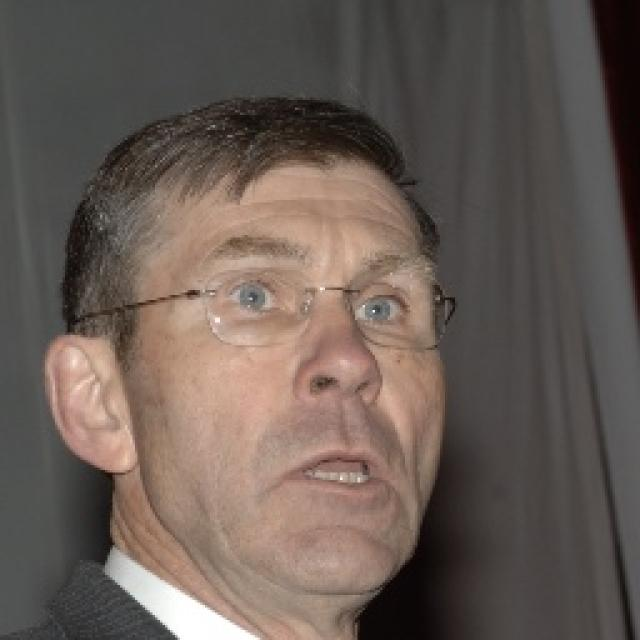earlobe: (92, 426, 136, 475)
eye: (224, 280, 284, 315), (358, 292, 412, 325)
nose: (306, 382, 375, 438)
wholeear: (44, 334, 136, 476)
